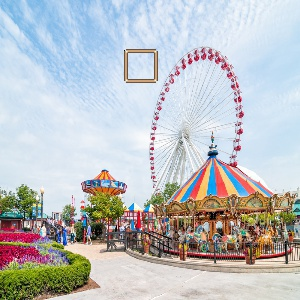square: (123, 48, 158, 83)
